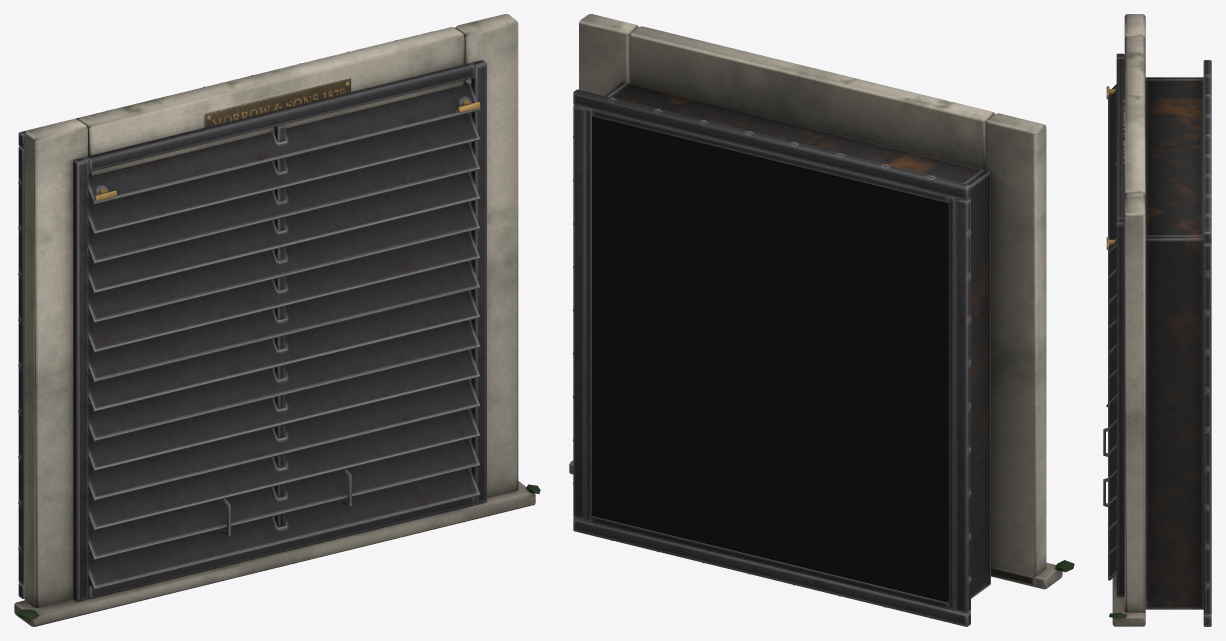
Rendered from VentWallLow.fbx.
3 views of the same model, side by side, from view 1: azimuth 30°, elevation 25°; view 2: azimuth 150°, elevation 25°; view 3: azimuth 270°, elevation 25° (orthographic). The views are drawn at different scales.
Visible parts, largest first — view 1: VentWallLow_Grate0, VentWallLow_Main; view 2: VentWallLow_Main; view 3: VentWallLow_Main, VentWallLow_Grate0.
Boxes of the visible parts, x1,y1,x2,y2 form: VentWallLow_Grate0: (73, 60, 486, 601); VentWallLow_Main: (14, 14, 540, 626); VentWallLow_Main: (569, 14, 1074, 626); VentWallLow_Main: (1106, 14, 1211, 626); VentWallLow_Grate0: (1103, 53, 1124, 596).
Size of the model in its own units: 776 by 717 by 164.
